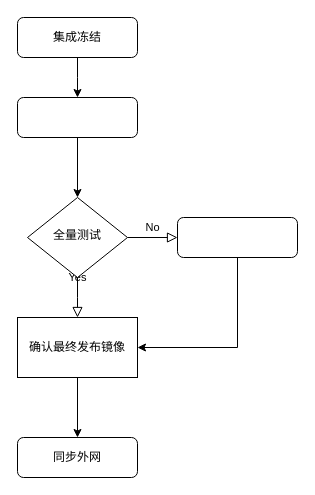
This 315x495 diagram has some shape labels left out. Each missing label, with the centre of its shape:
产品check需求: the point at 77,117
问题修复: the point at 237,237
